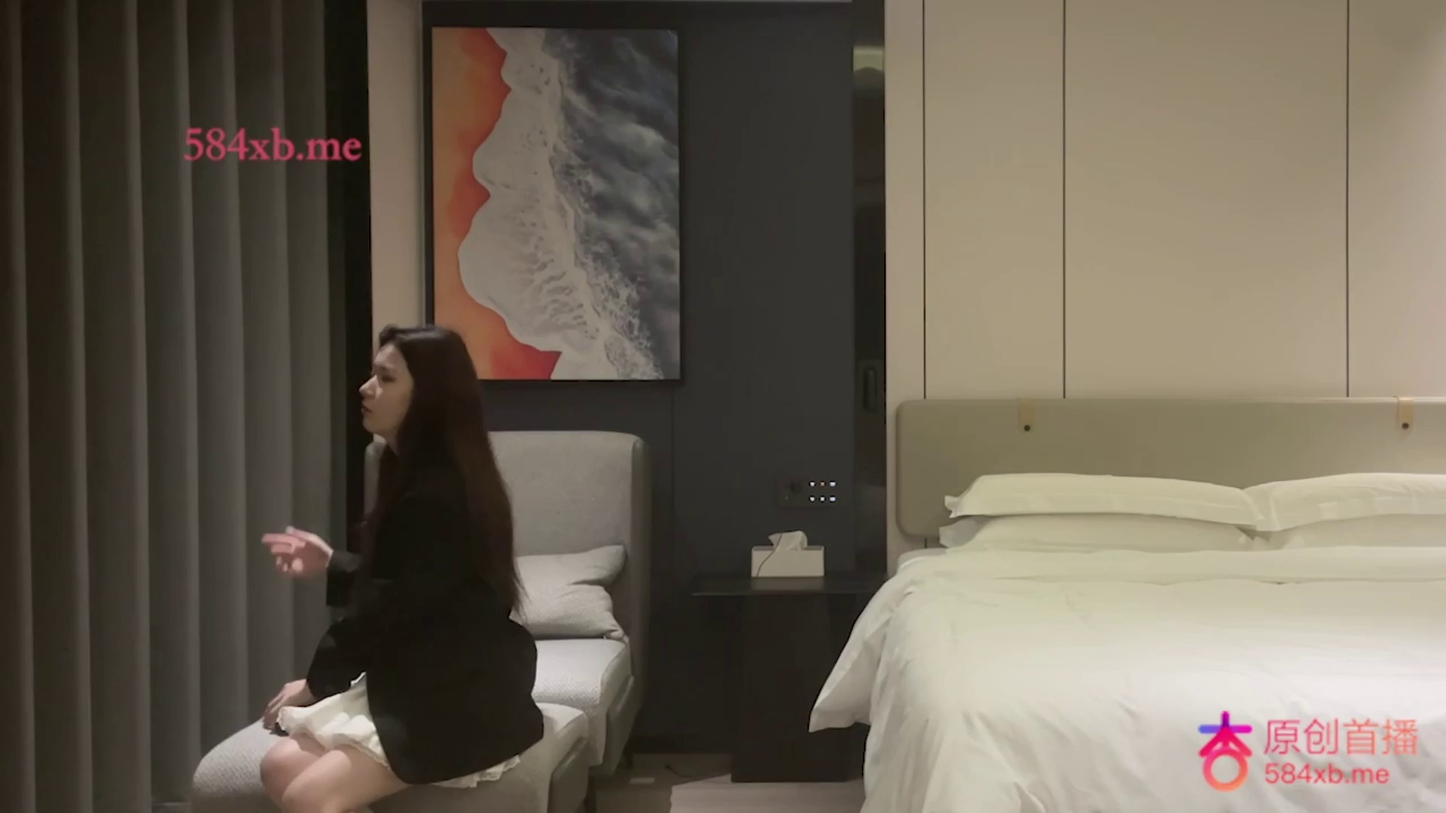sit: (256, 324, 545, 811)
